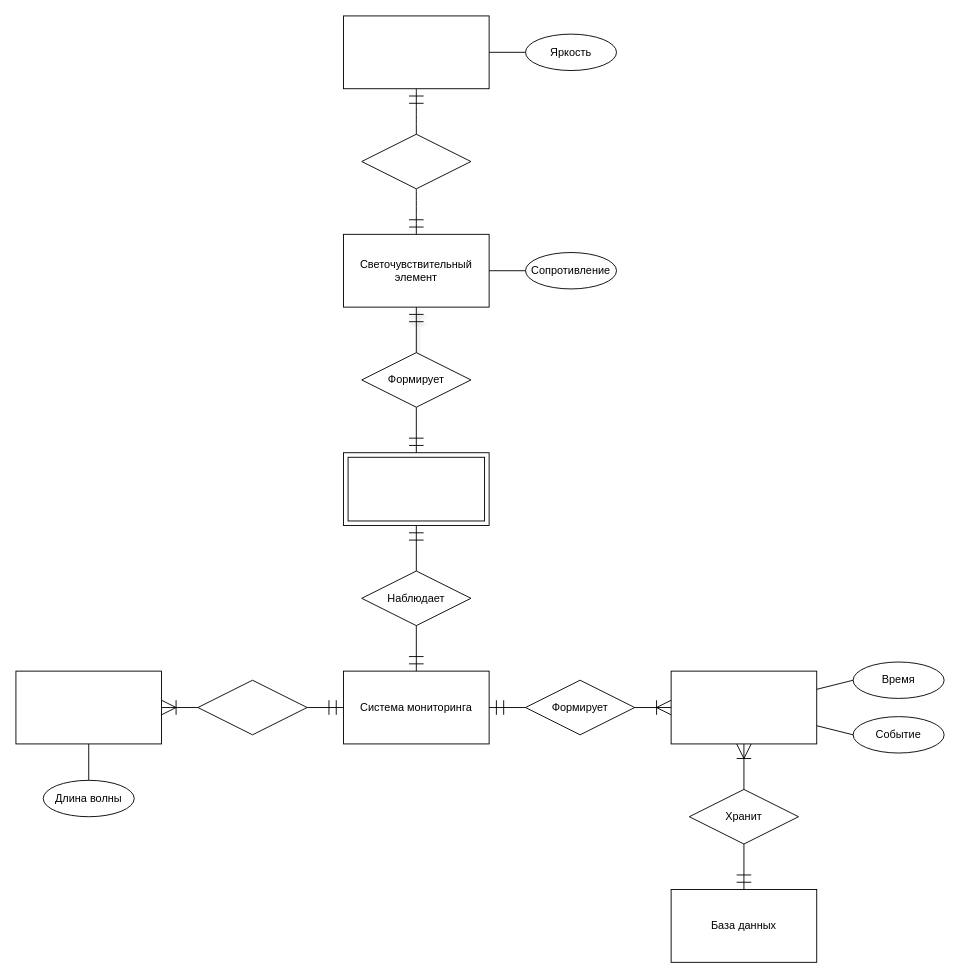
Some shapes in this 960 by 978 pixel diagram are drawn without their labels. Each missing label, with the centre of its shape:
Влияет: (416,161)
Запись об изменении состояния: (743,707)
Источник дневного света: (416,52)
Светоизлучающий элемент: (88,707)
Управляет: (252,707)
Уровень освещенности: (416,489)
